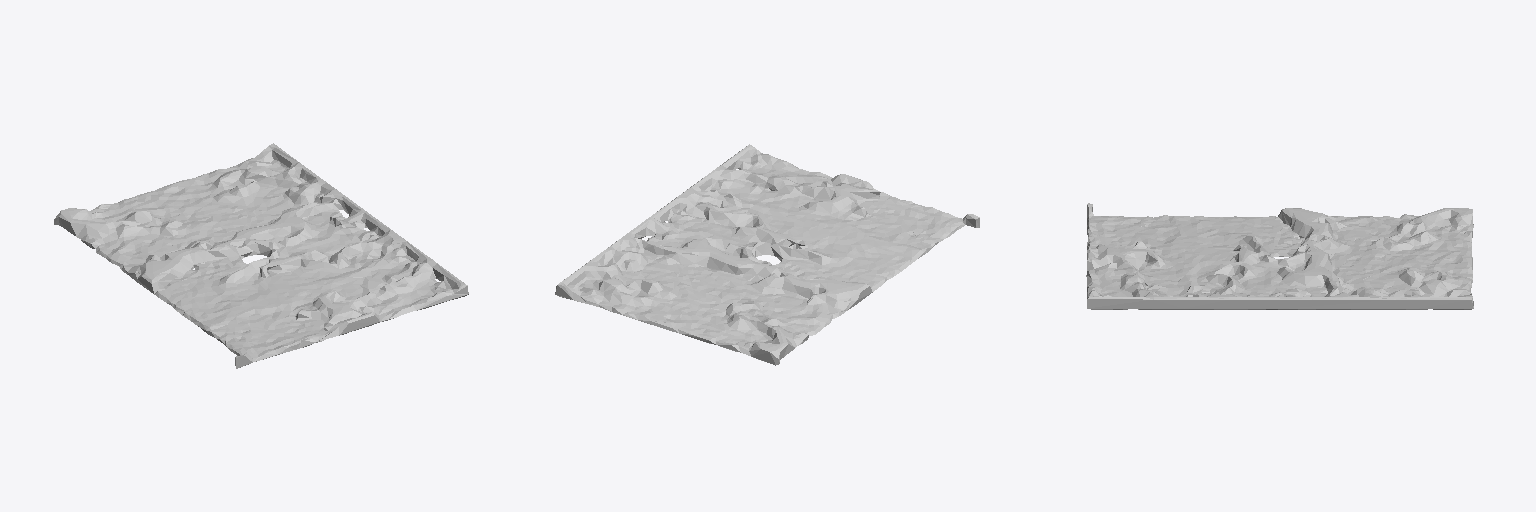
3 views of the same model, side by side, from view 1: azimuth 30°, elevation 25°; view 2: azimuth 150°, elevation 25°; view 3: azimuth 270°, elevation 25° (orthographic).
Visible parts, largest first — view 1: Liquid_Domain; view 2: Liquid_Domain; view 3: Liquid_Domain.
Part boxes in pixels (x1,y1,x2,y2): Liquid_Domain: (54, 143, 468, 368); Liquid_Domain: (555, 144, 979, 365); Liquid_Domain: (1086, 203, 1473, 309).
Bounding box in the file's own units: 116 × 13.81 × 168.